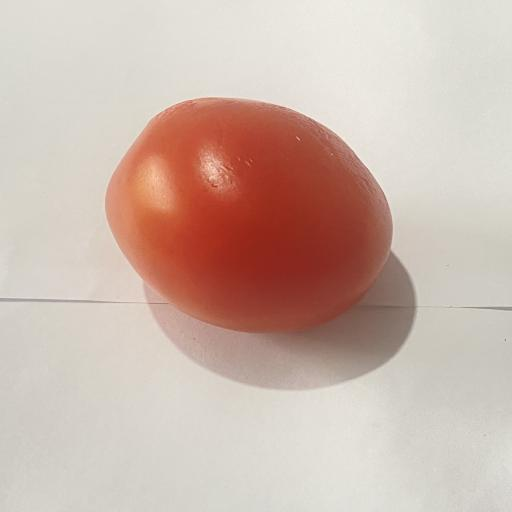overipe: (106, 98, 392, 332)
